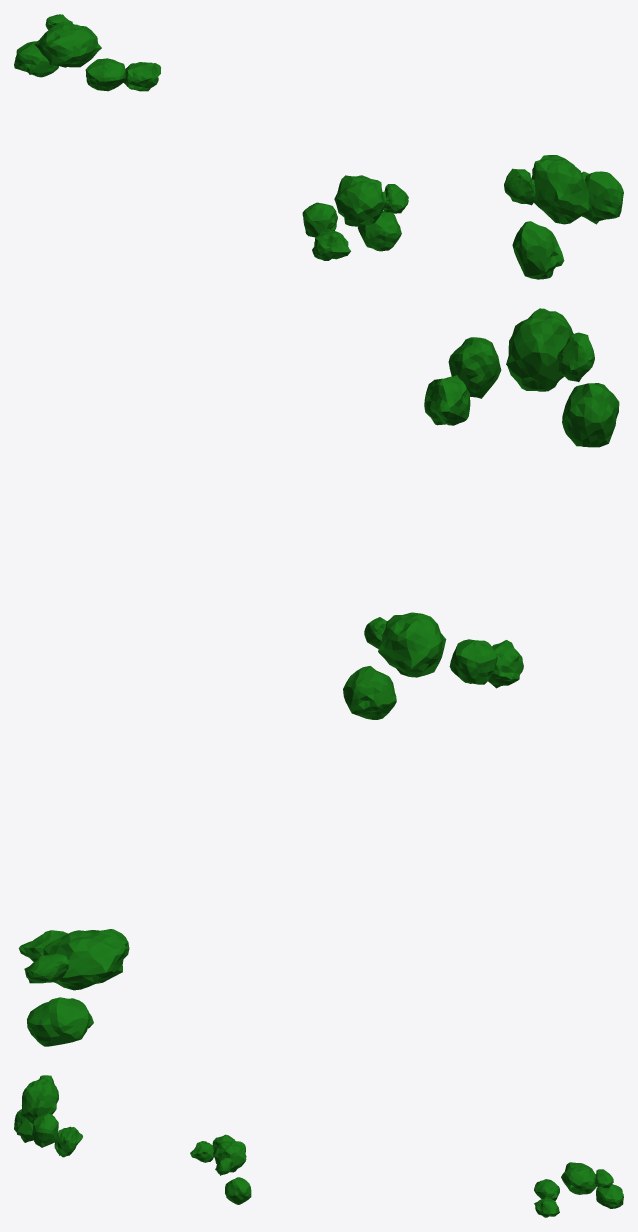
The model's file is island_2_tree_leaves.obj.
3 renders of one model, top to bottom at view 1: azimuth 30°, elevation 25°; view 2: azimuth 150°, elevation 25°; view 3: azimuth 270°, elevation 25°, orthographic. The views are drawn at different scales.
Parts seen in each view (by area): view 1: tree_leaves group1 polySurface16, tree_leaves group1 polySurface12, polySurface14 tree_leaves group1; view 2: tree_leaves group1 polySurface16, tree_leaves group1 polySurface12, polySurface14 tree_leaves group1; view 3: tree_leaves group1 polySurface16, polySurface14 tree_leaves group1, tree_leaves group1 polySurface12.
Part boxes in pixels (x1,y1,x2,y2): tree_leaves group1 polySurface16: [504, 155, 623, 279]; tree_leaves group1 polySurface12: [302, 175, 408, 260]; polySurface14 tree_leaves group1: [14, 14, 160, 91]; tree_leaves group1 polySurface16: [424, 308, 619, 447]; tree_leaves group1 polySurface12: [343, 612, 523, 719]; polySurface14 tree_leaves group1: [18, 929, 129, 1046]; tree_leaves group1 polySurface16: [14, 1075, 82, 1157]; polySurface14 tree_leaves group1: [534, 1162, 623, 1217]; tree_leaves group1 polySurface12: [190, 1134, 251, 1204].
Size of the model in its own units: 1.85 by 2.22 by 8.43.
